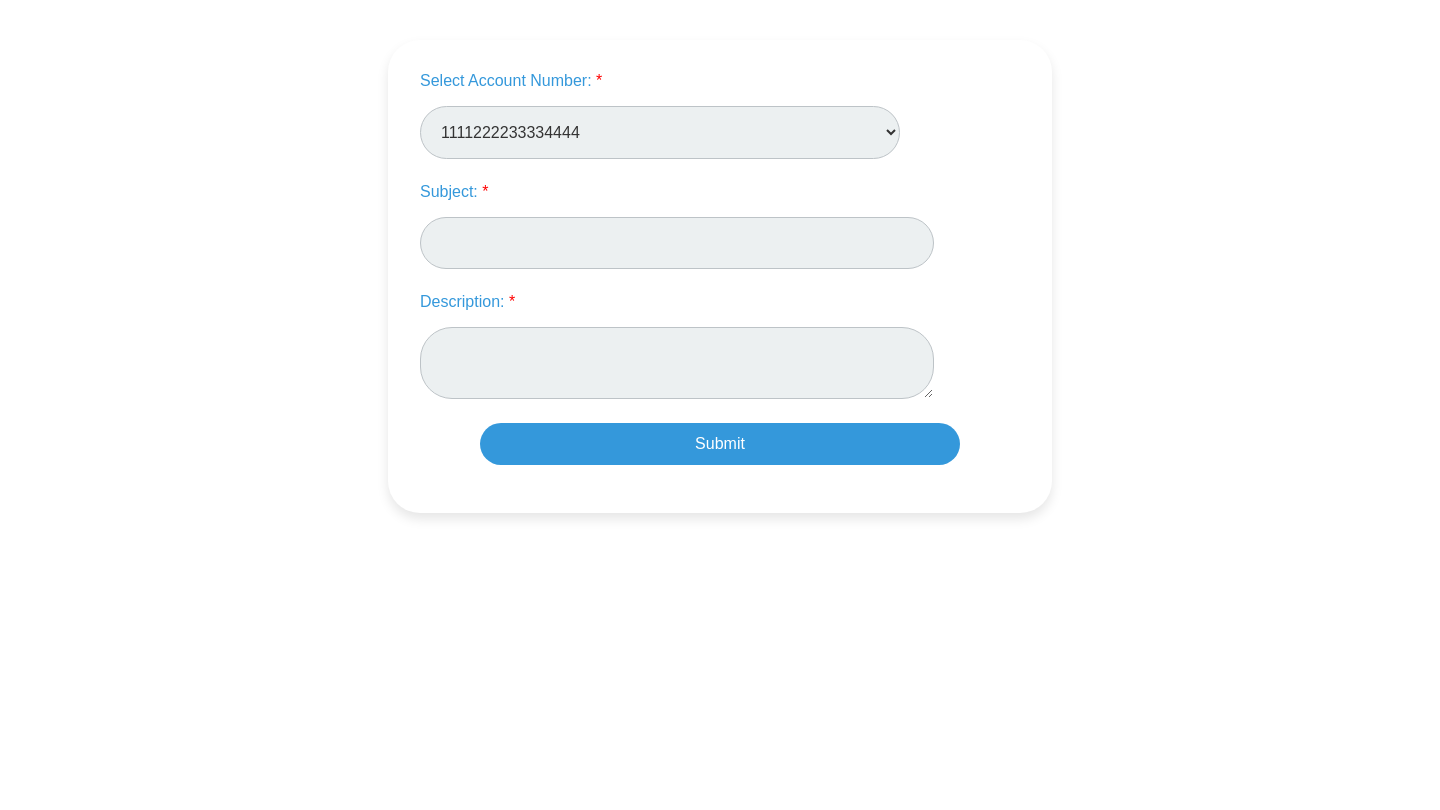
CustomerRegisterGrievance Component › submits the grievance form successfully
Select "1111222233334444" in the dropdown labelled "Select Account Number: *" at (660,132), box [420,106,900,159]
Type "Complaint Subject" into the field labelled "Subject: *".
click(677, 243); type("Complaint Subject")  # box [420,217,934,269]
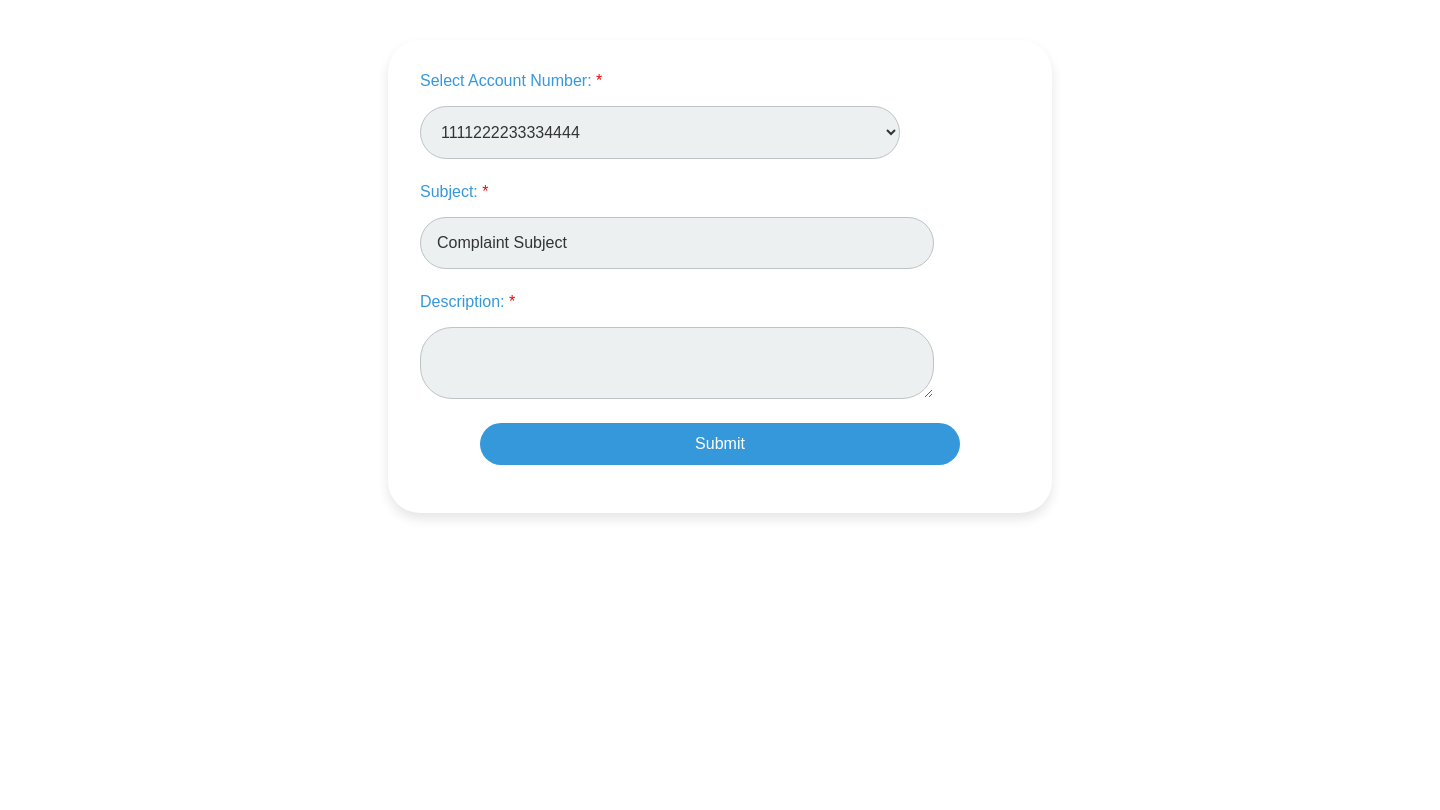
Type "Complaint Description" into the text box labelled "Description: *".
click(677, 363); type("Complaint Description")  # box [420,327,934,399]
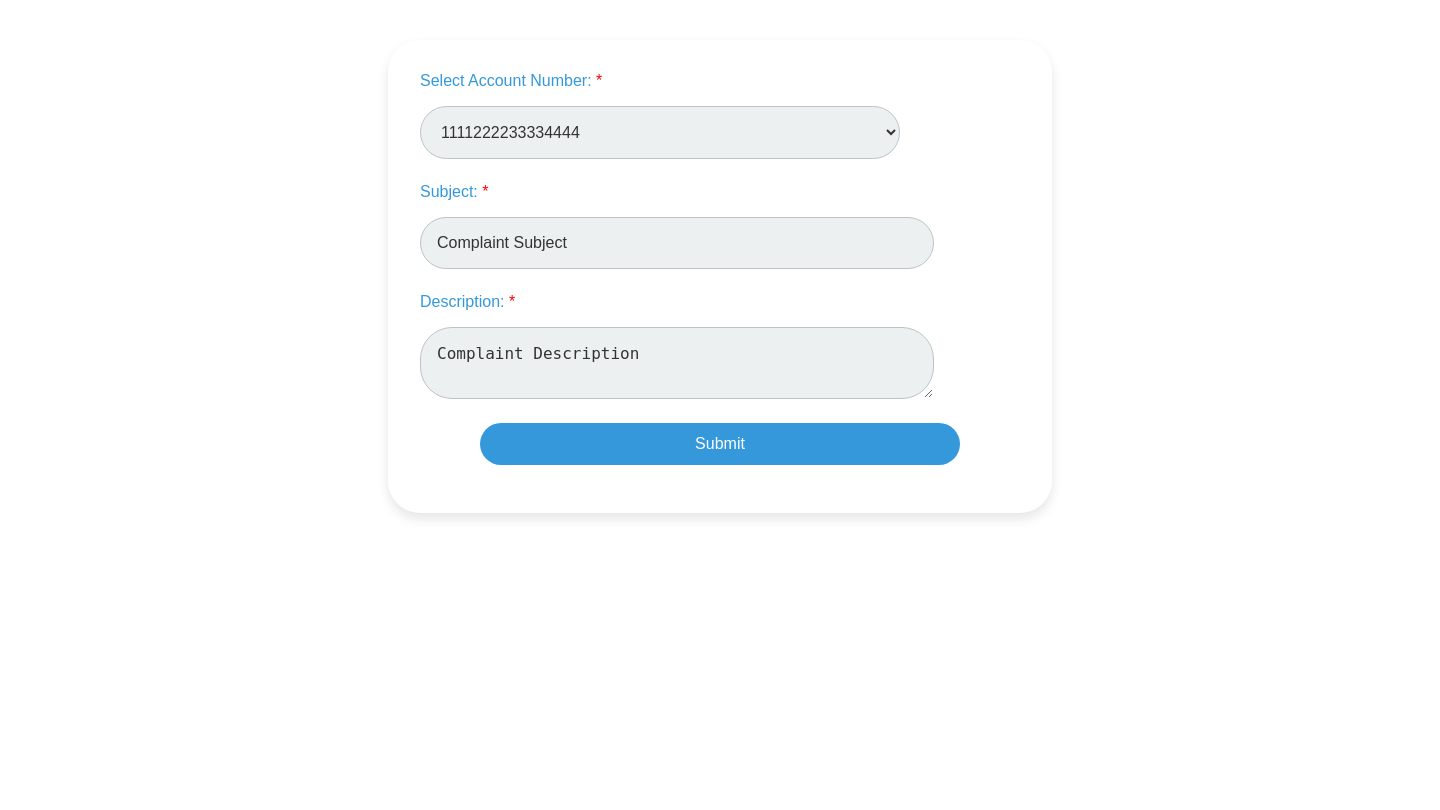
Click the button "Submit".
click(720, 444)  # box [480,423,960,465]
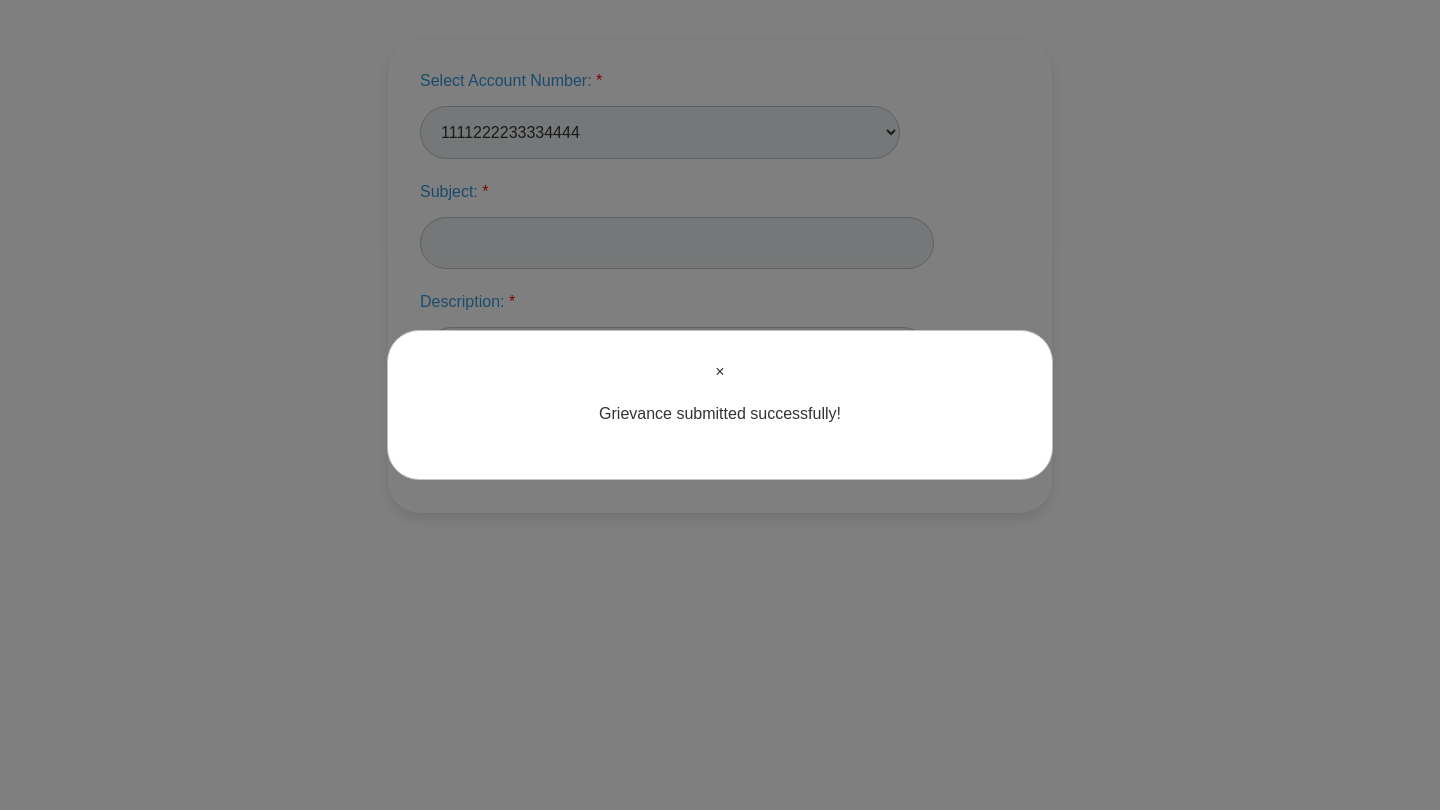
Result: the text "Grievance submitted successfully!" is shown at [599,405,841,422]
